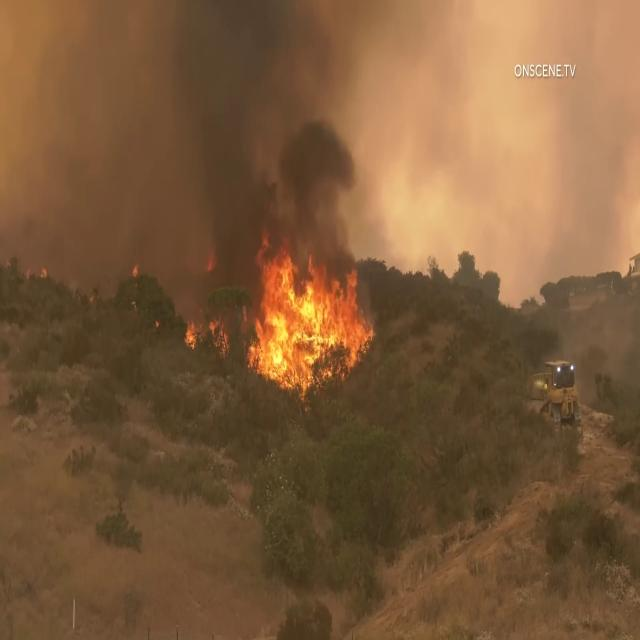fire: (248, 212, 378, 393)
smoke: (179, 11, 273, 268)
